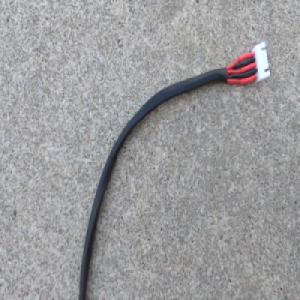Wire: (77, 40, 271, 300)
